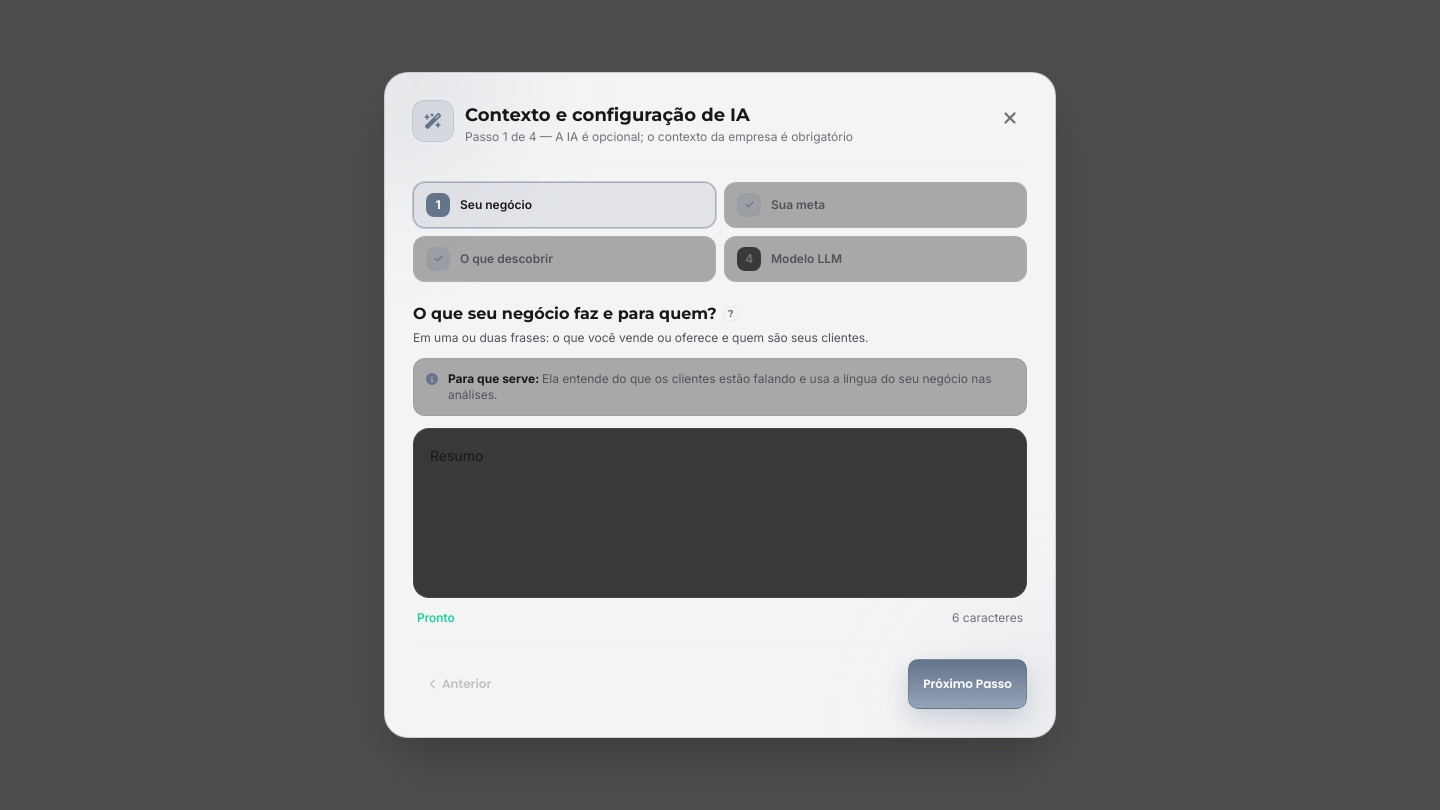
Test case: [Unidade] Componentes e Contexto de Onboarding › escolha do modelo na etapa da LLM › mostra só os modelos gratuitos por padrão e permite ver também os pagos
The width and height of the screenshot is (1440, 810).
Click the button with aria-label "4. Modelo LLM" at point(807, 258), box [724,236,1027,282]
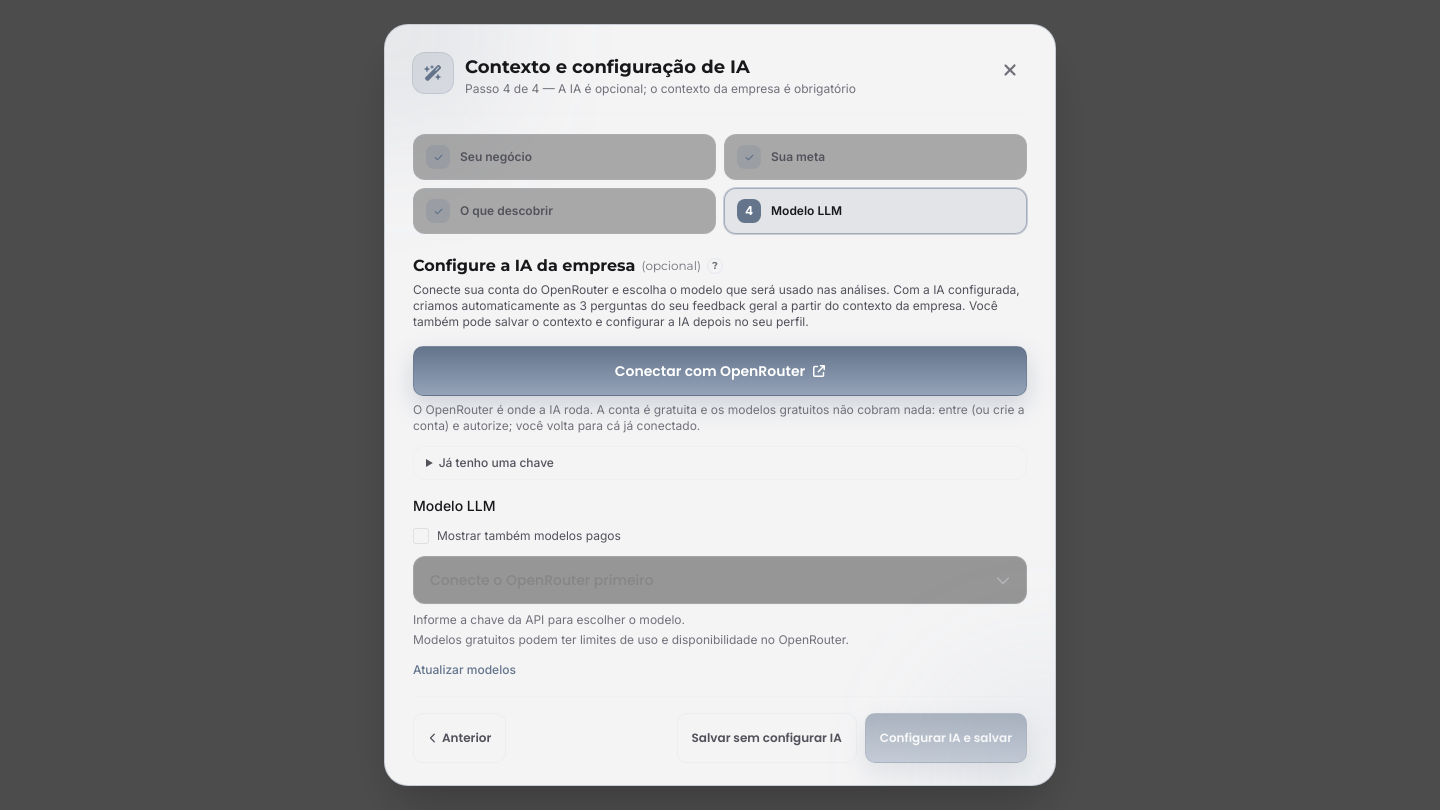
Replace the text in the password field named "Chave da API OpenRouter" with "sk-or-v1-teste" at point(720, 463), box [413,446,1027,480]
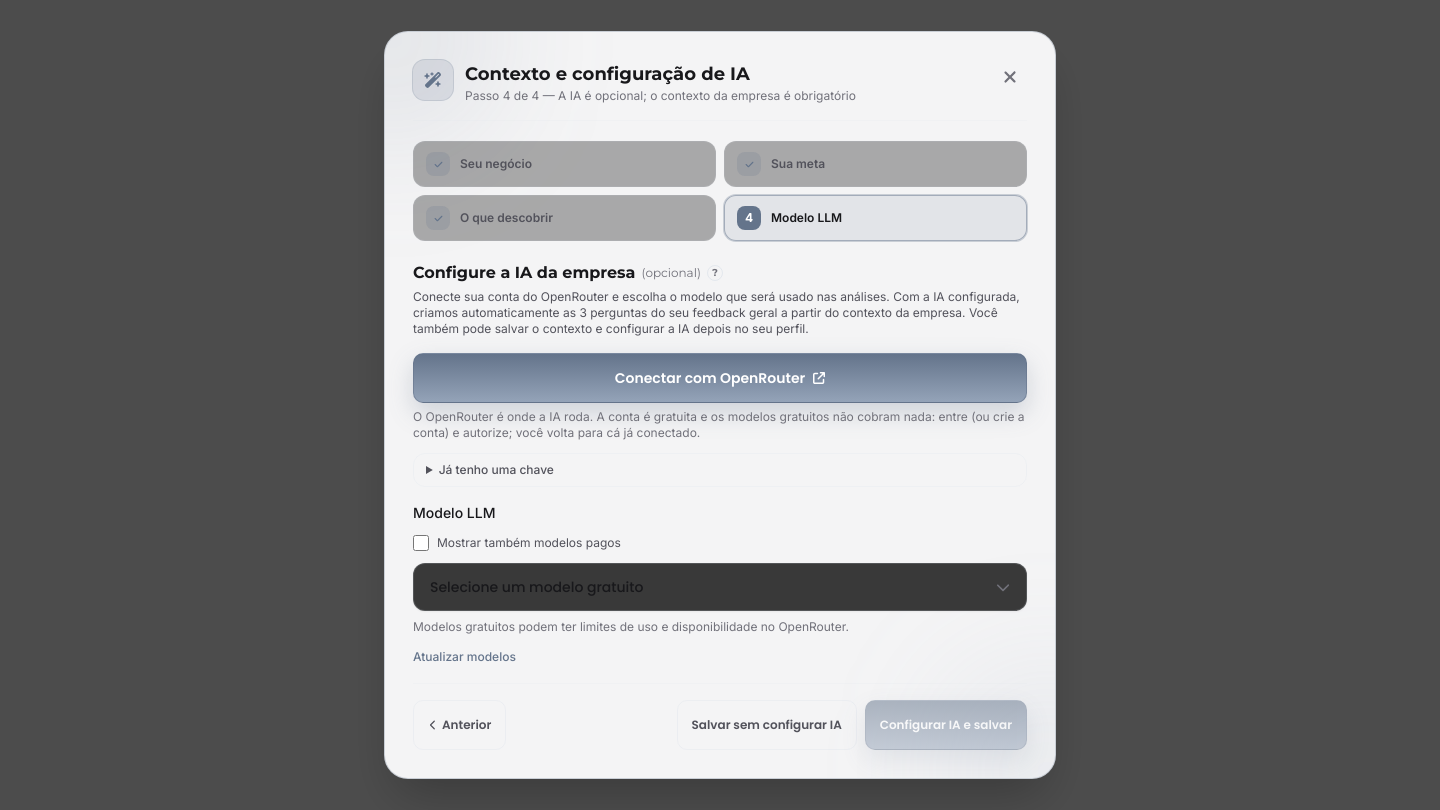
Click the dropdown named "Modelo LLM" at point(537, 587), box [413,563,1027,611]
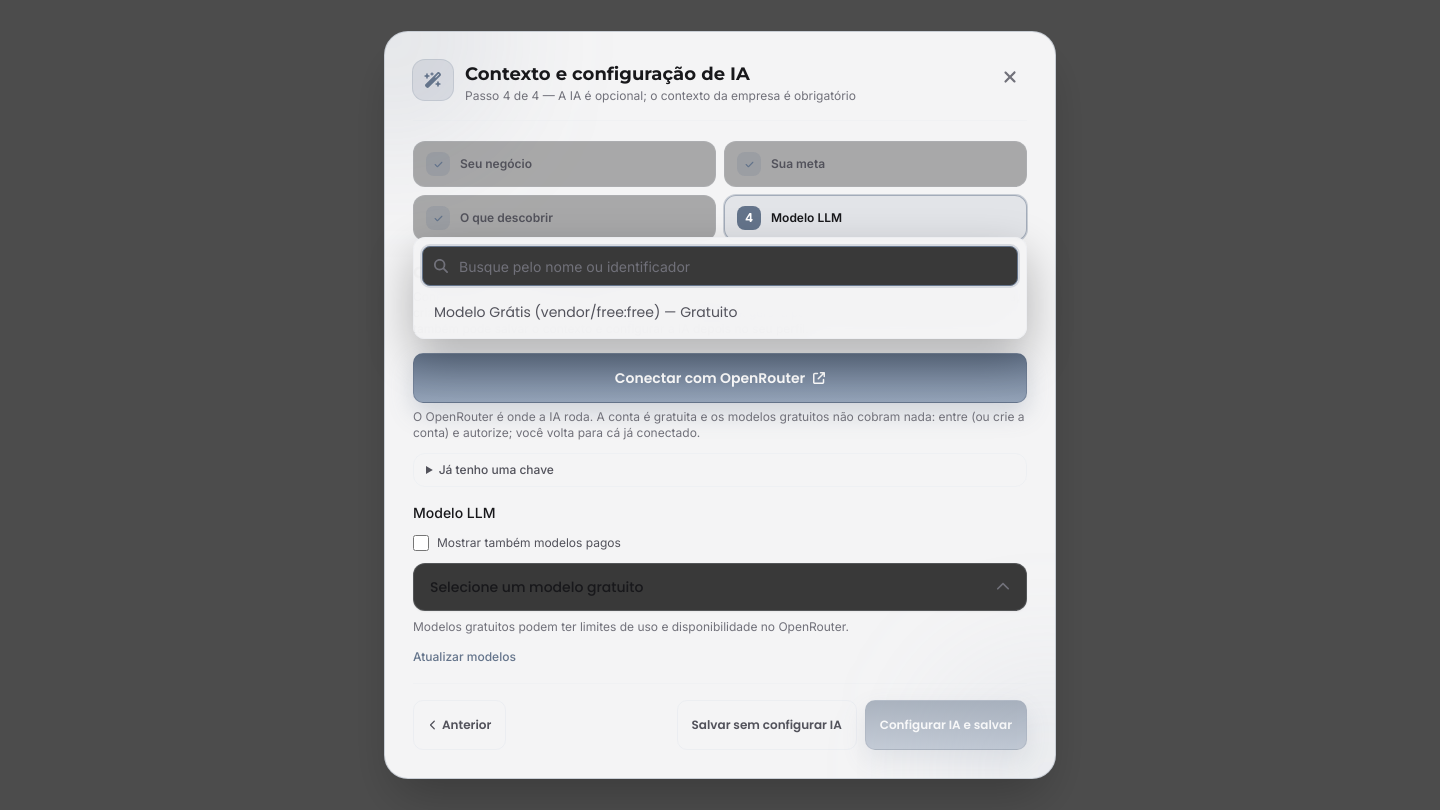
Expected: the option "Modelo Pago" is not shown
Expected: the checkbox labelled "Mostrar também modelos pagos" is not checked
Expected: the option "Modelo Grátis (vendor/free:free) — Gratuito" is enabled, [422,294,1018,330]
Click the checkbox labelled "Mostrar também modelos pagos" at point(421, 543), box [413,535,429,551]
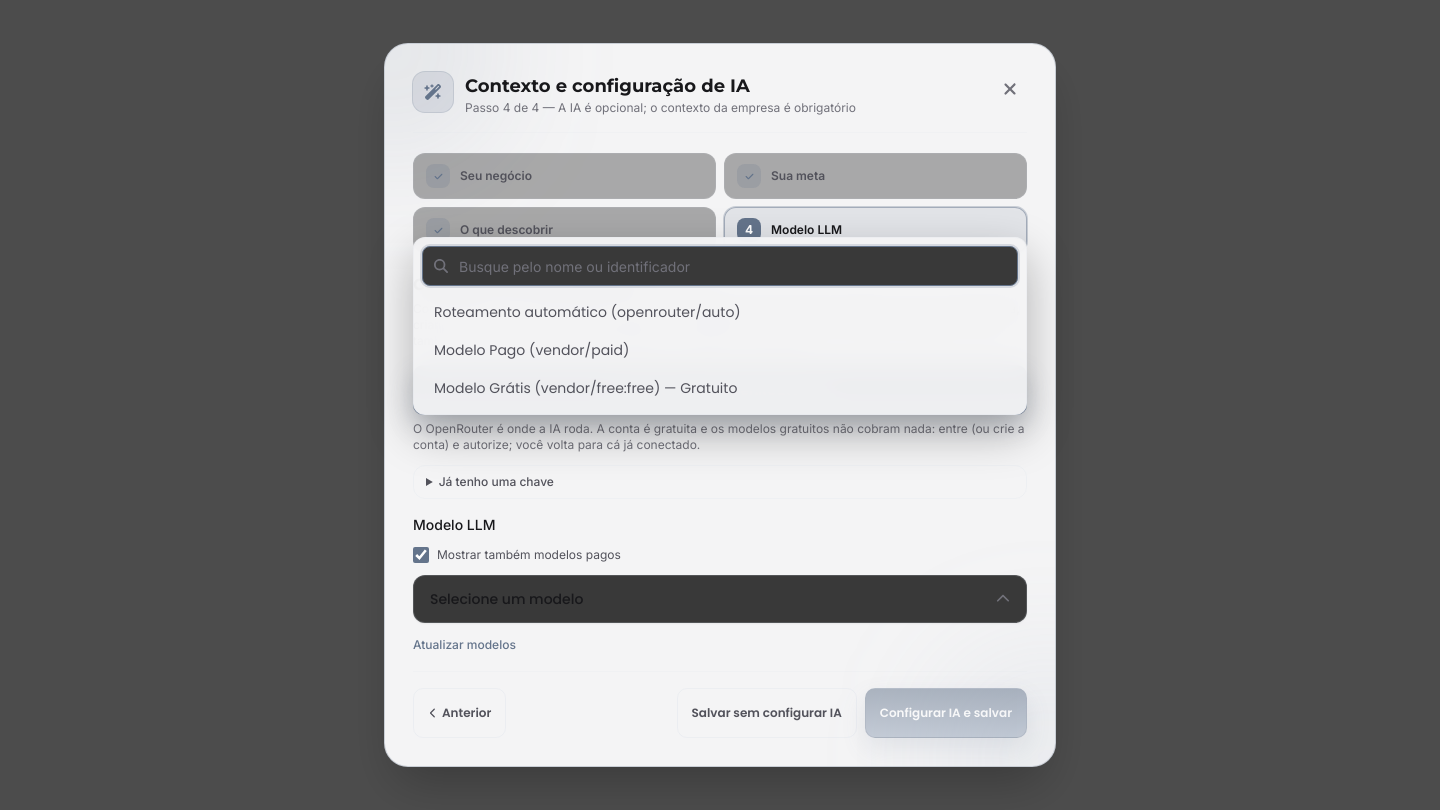
Expected: the option "Modelo Pago (vendor/paid)" is enabled, [422,332,1018,368]
Expected: the option "Roteamento automático (openrouter/auto)" is shown, [422,294,1018,330]
